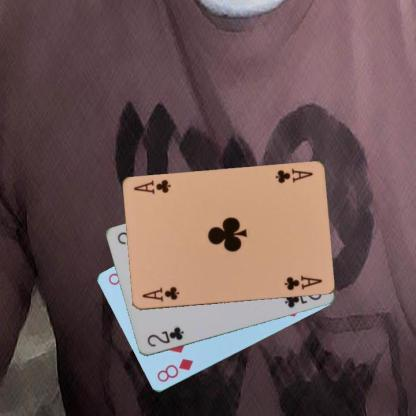2c: (144, 325, 185, 348)
8d: (154, 356, 195, 384)
Ac: (272, 166, 314, 185), (140, 284, 180, 302)
